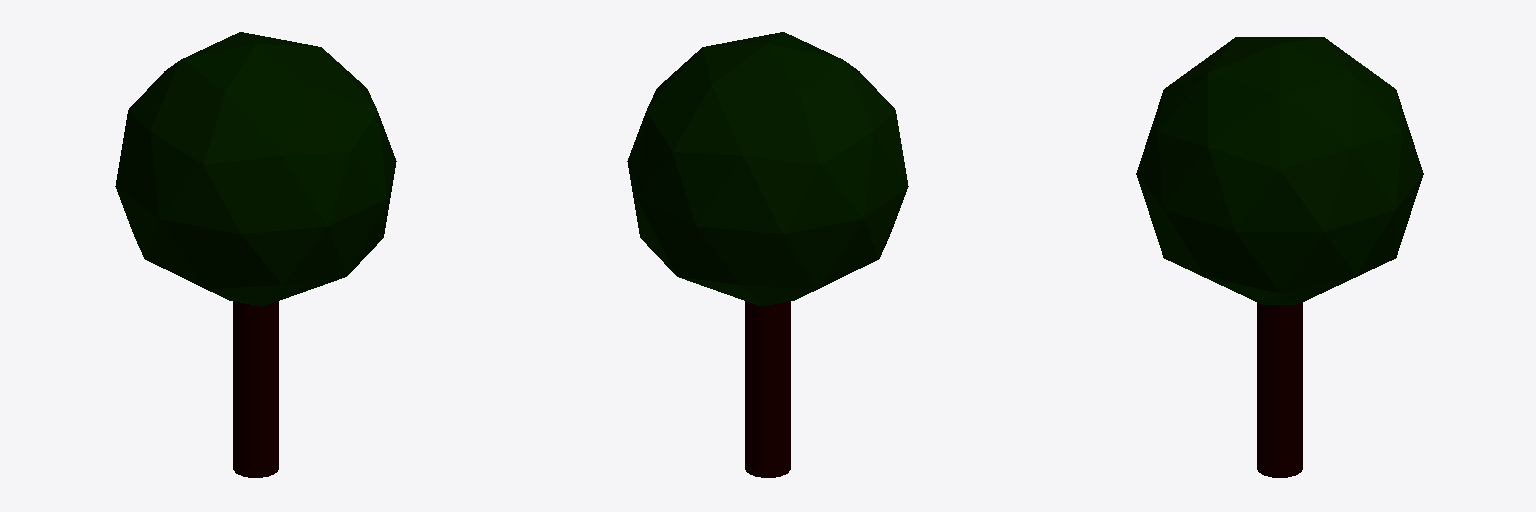
Rendered from Arbol.obj.
The picture shows the model from 3 angles: view 1: azimuth 30°, elevation 25°; view 2: azimuth 150°, elevation 25°; view 3: azimuth 270°, elevation 25°; orthographic projection.
Visible parts, largest first — view 1: Copa_Icosphere, Tronco_Cylinder.007; view 2: Copa_Icosphere, Tronco_Cylinder.007; view 3: Copa_Icosphere, Tronco_Cylinder.007.
Part boxes in pixels (x1,y1,x2,y2): Copa_Icosphere: (115, 32, 396, 306); Tronco_Cylinder.007: (233, 301, 278, 477); Copa_Icosphere: (627, 32, 908, 306); Tronco_Cylinder.007: (745, 301, 790, 477); Copa_Icosphere: (1136, 37, 1423, 304); Tronco_Cylinder.007: (1257, 302, 1302, 477).
Bounding box in the file's own units: 3.83 × 6.57 × 4.03.